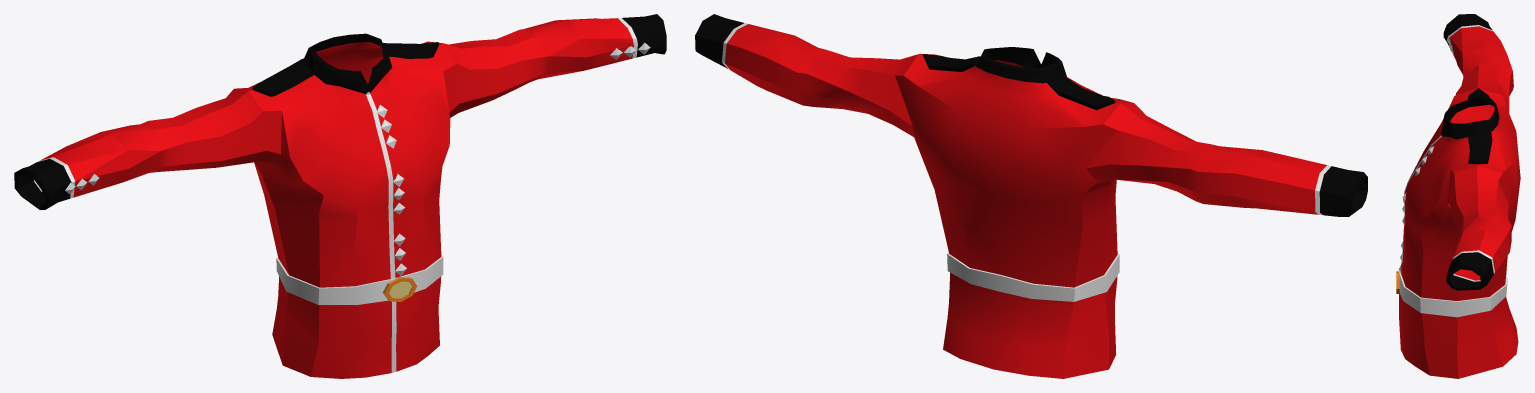
The model's file is Jacket_04.fbx.
3 views of the same model, side by side, from view 1: azimuth 30°, elevation 25°; view 2: azimuth 150°, elevation 25°; view 3: azimuth 270°, elevation 25° (orthographic). The views are drawn at different scales.
Visible parts, largest first — view 1: Jacket_04; view 2: Jacket_04; view 3: Jacket_04.
Part boxes in pixels (box(x1,y1,x2,y2)): Jacket_04: box(14, 14, 666, 378); Jacket_04: box(695, 14, 1367, 378); Jacket_04: box(1396, 14, 1520, 378).
Bounding box in the file's own units: 141 × 62.33 × 29.1.
